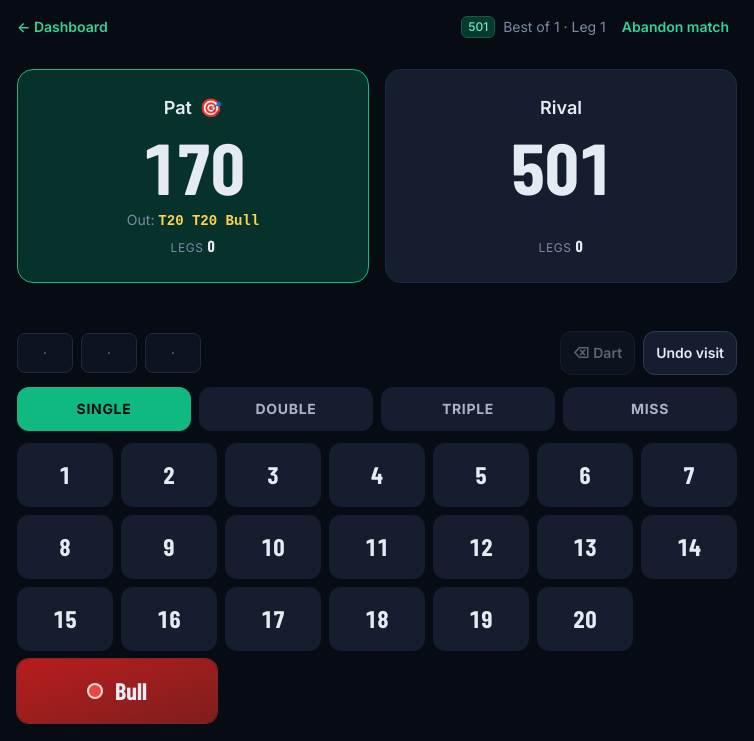
Test: LiveScoringPage 501 feedback › shows the running score and a checkout hint while darts are entered
The image size is (754, 741).
Check: the text "170" is shown, box [142,123,244,209]
Check: the text "T20 T20 Bull" is shown, box [158,213,259,229]
Click the button "triple".
click(468, 409)  # box [381,387,555,431]
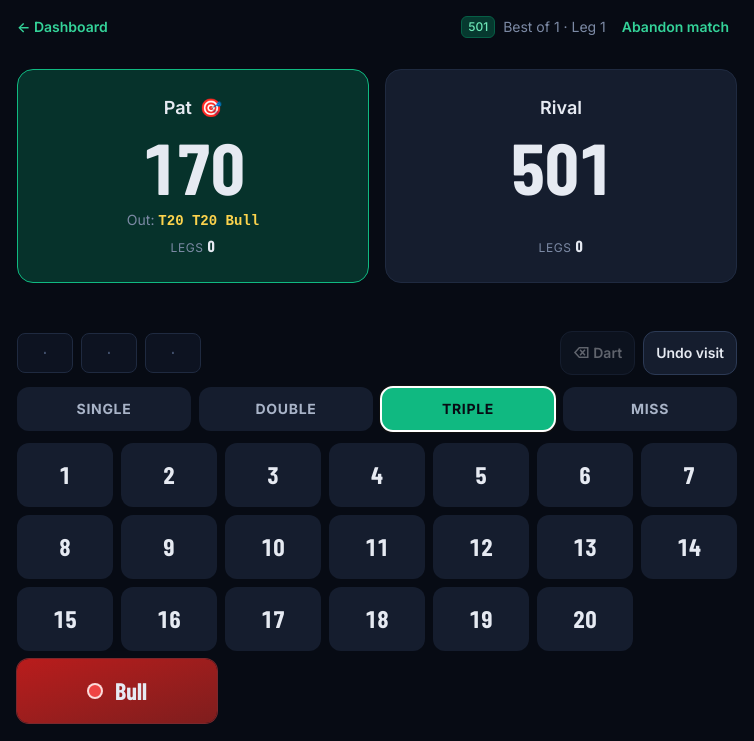
Click the button "20".
click(585, 619)  # box [537,587,633,651]
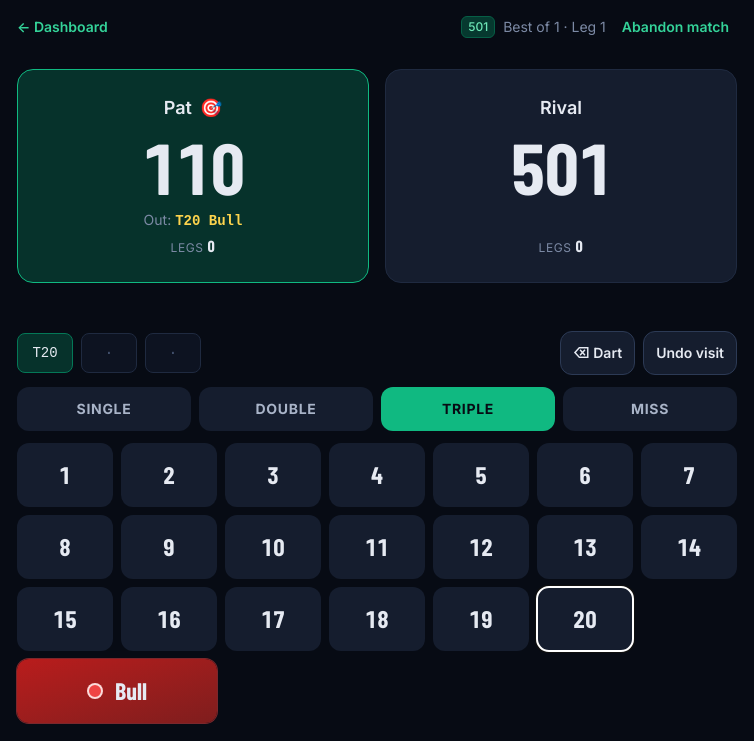
Check: the text "T20 Bull" is shown, box [175,213,242,229]
Check: the text "110" is shown, box [142,123,244,209]
Check: the text "T20" is shown, box [17,333,73,373]
